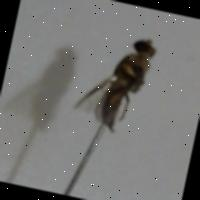Oriental-fruit-fly: (62, 2, 172, 146)
